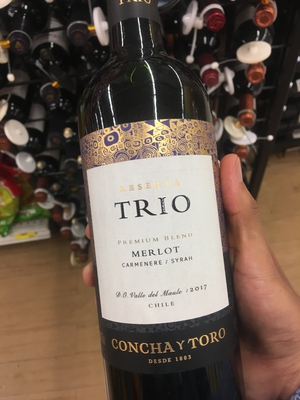trio merlot: (74, 11, 249, 400)
